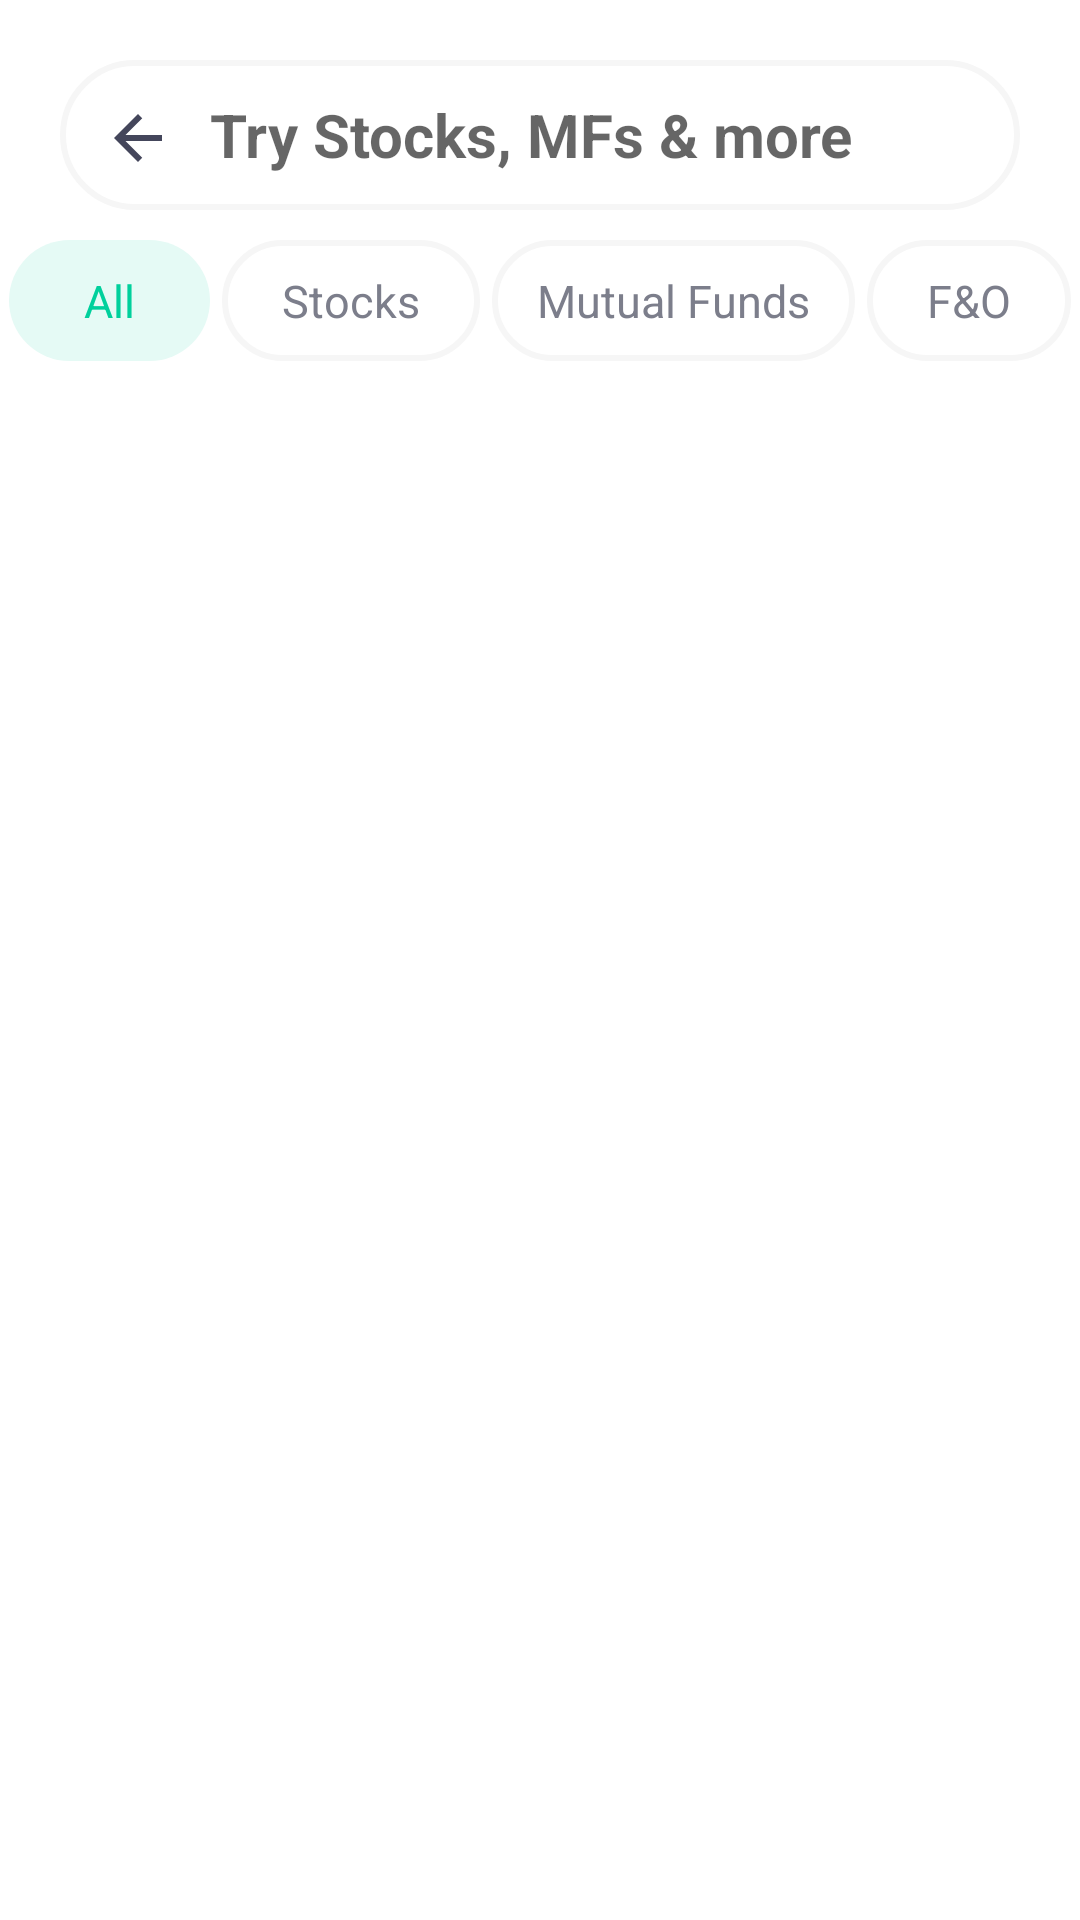

Screen size 1080px×1920px. Icon name, then its center in pixels as (x,y):
backsearch: (138,138)
